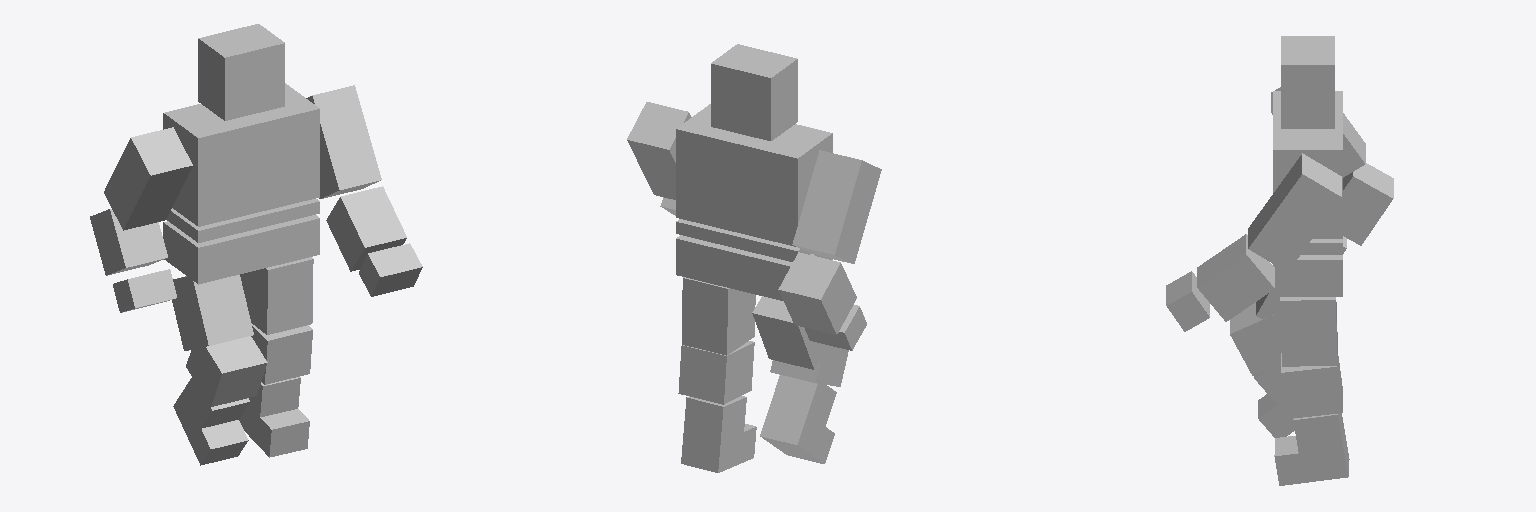
Rendered from POne4.obj.
The picture shows the model from 3 angles: view 1: azimuth 30°, elevation 25°; view 2: azimuth 150°, elevation 25°; view 3: azimuth 270°, elevation 25°; orthographic projection.
Size of the model in its own units: 3.64 by 6.48 by 3.25.